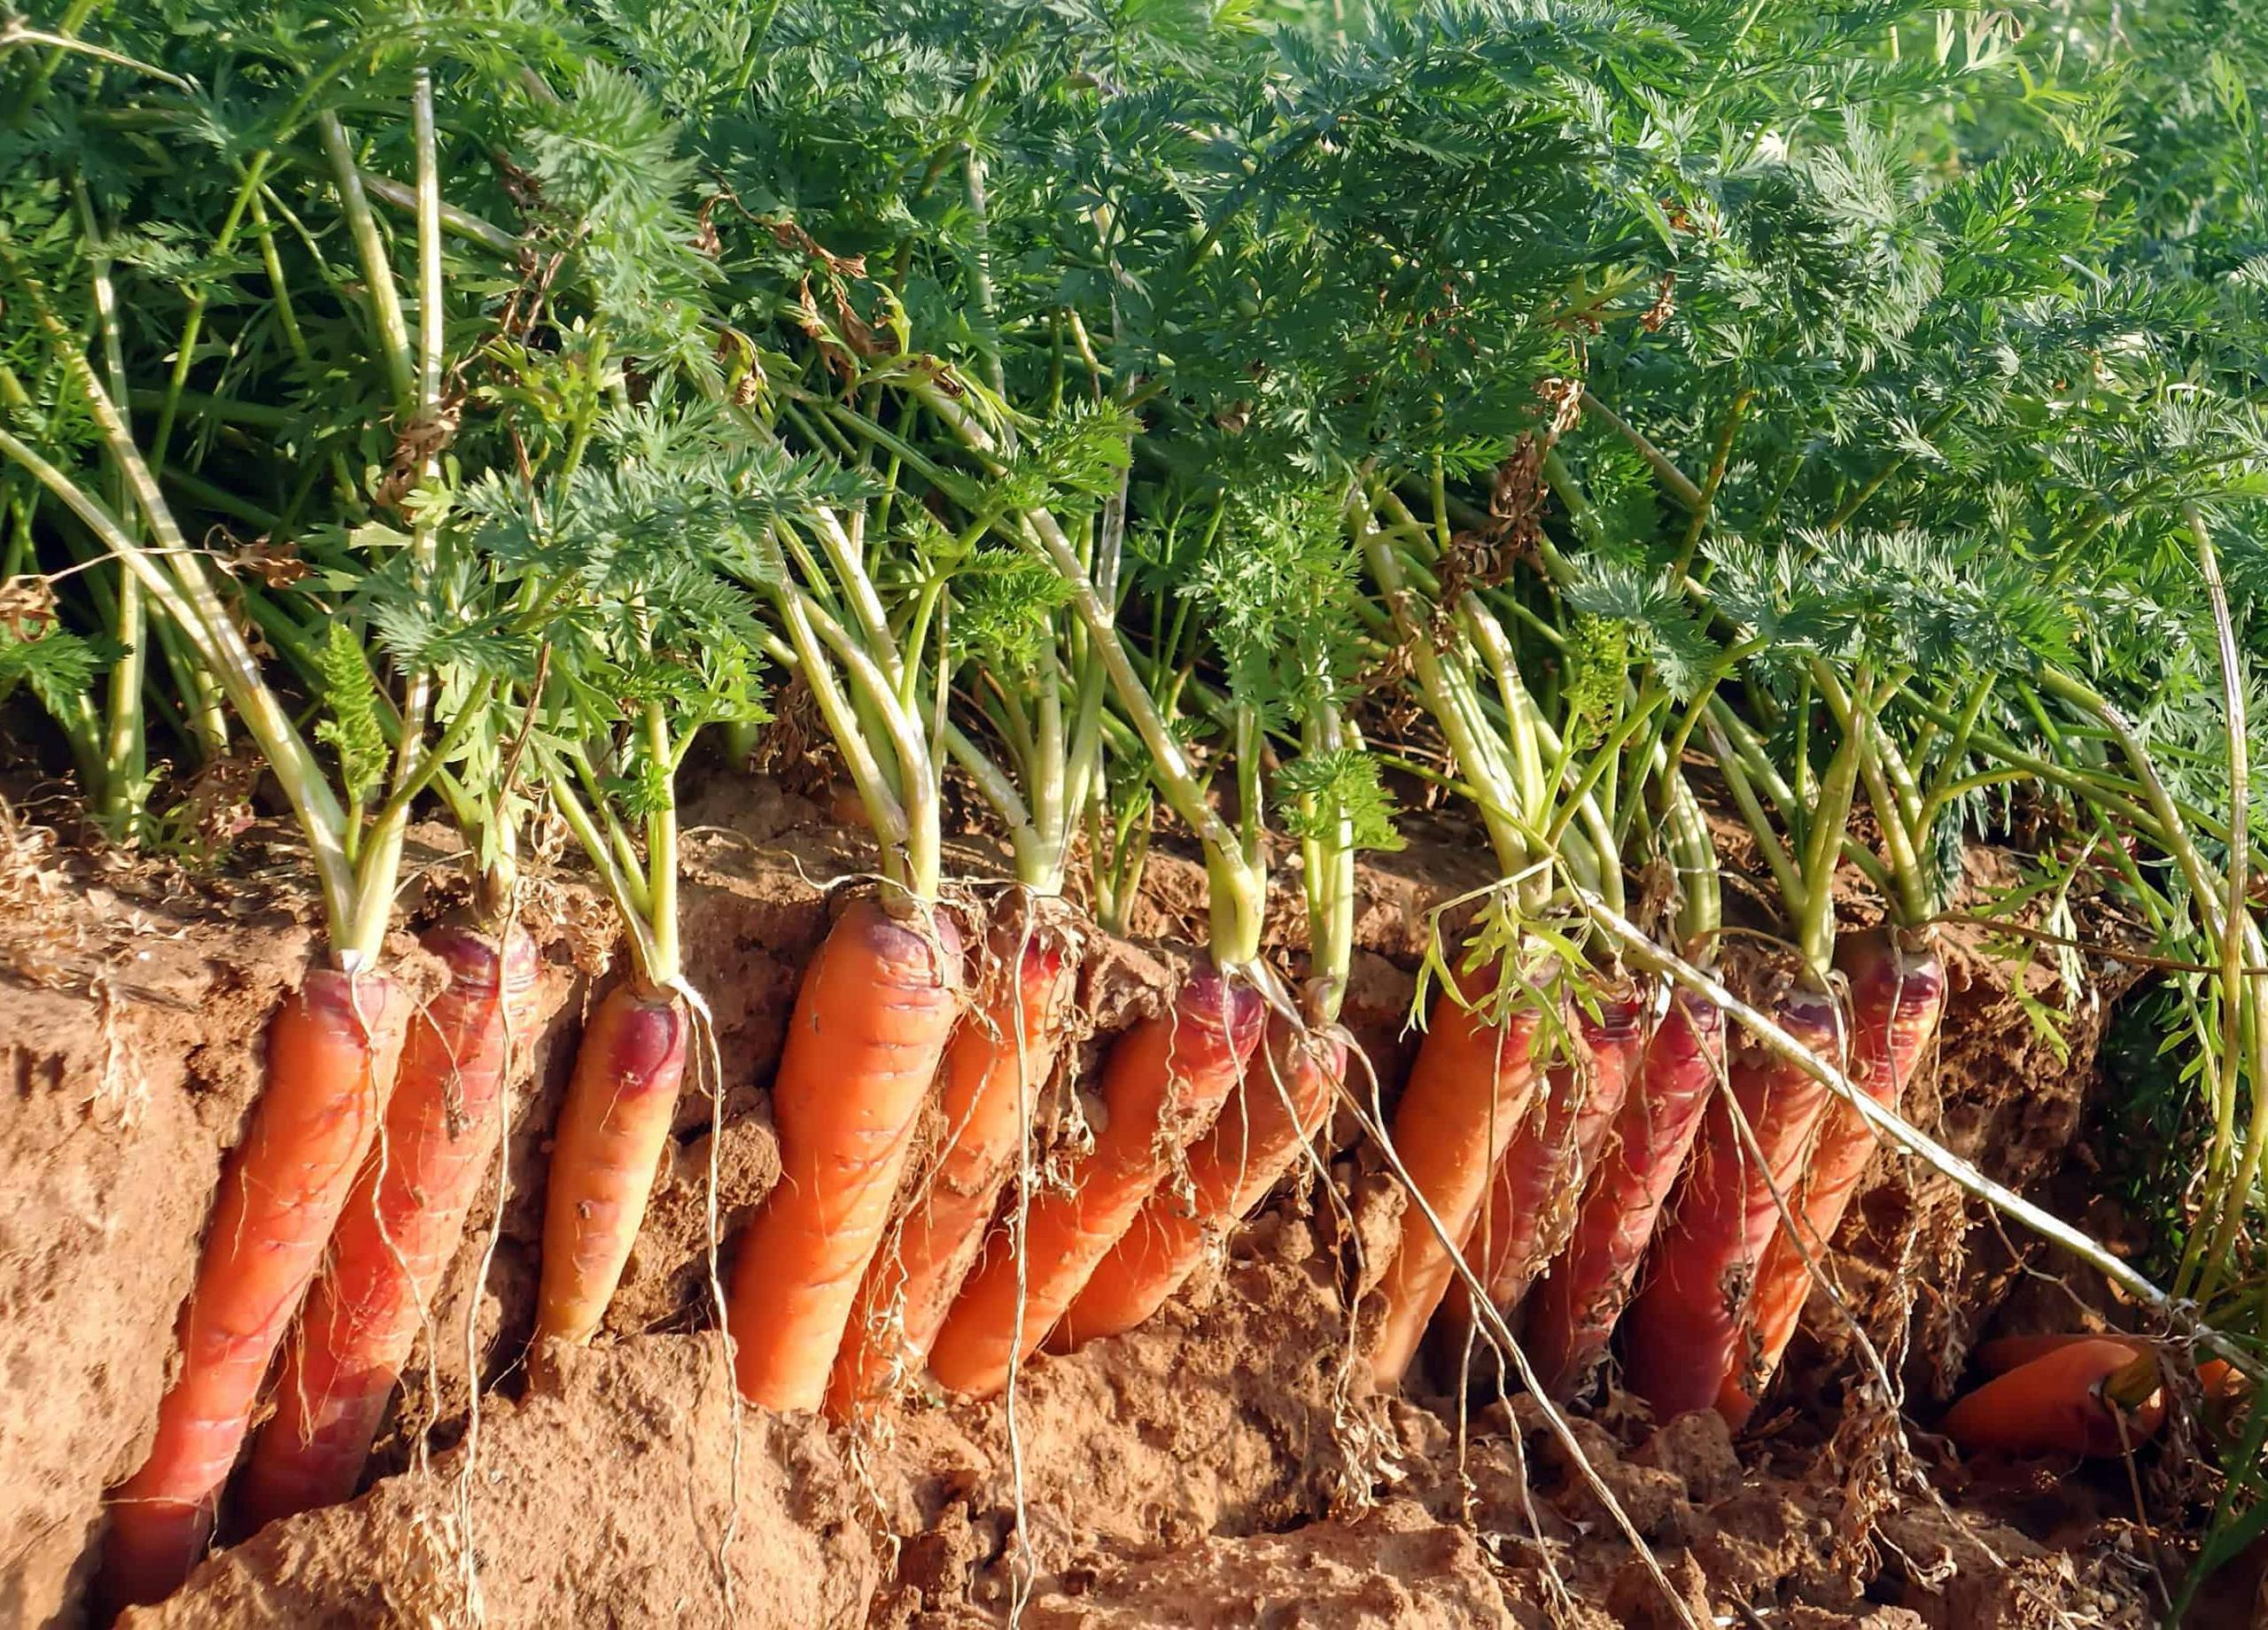carrot: (299, 928, 1824, 1387), (806, 868, 1388, 1401), (1389, 882, 1937, 1419), (257, 917, 671, 1391), (1951, 1296, 2192, 1542)
